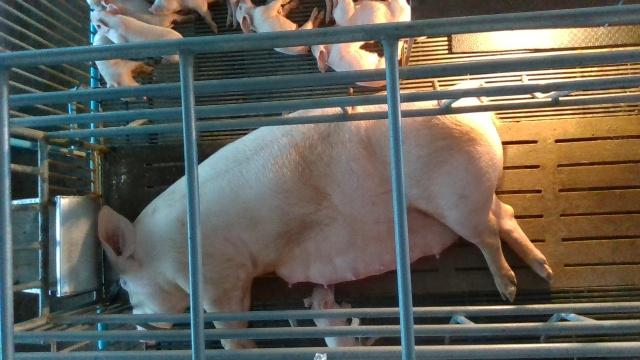piglet: (91, 4, 183, 62), (235, 0, 324, 55), (304, 284, 379, 347), (312, 41, 404, 87), (93, 32, 154, 101), (88, 0, 196, 29), (149, 0, 238, 34), (333, 0, 412, 26)
sow-sleep-lactate: (98, 79, 552, 350)
